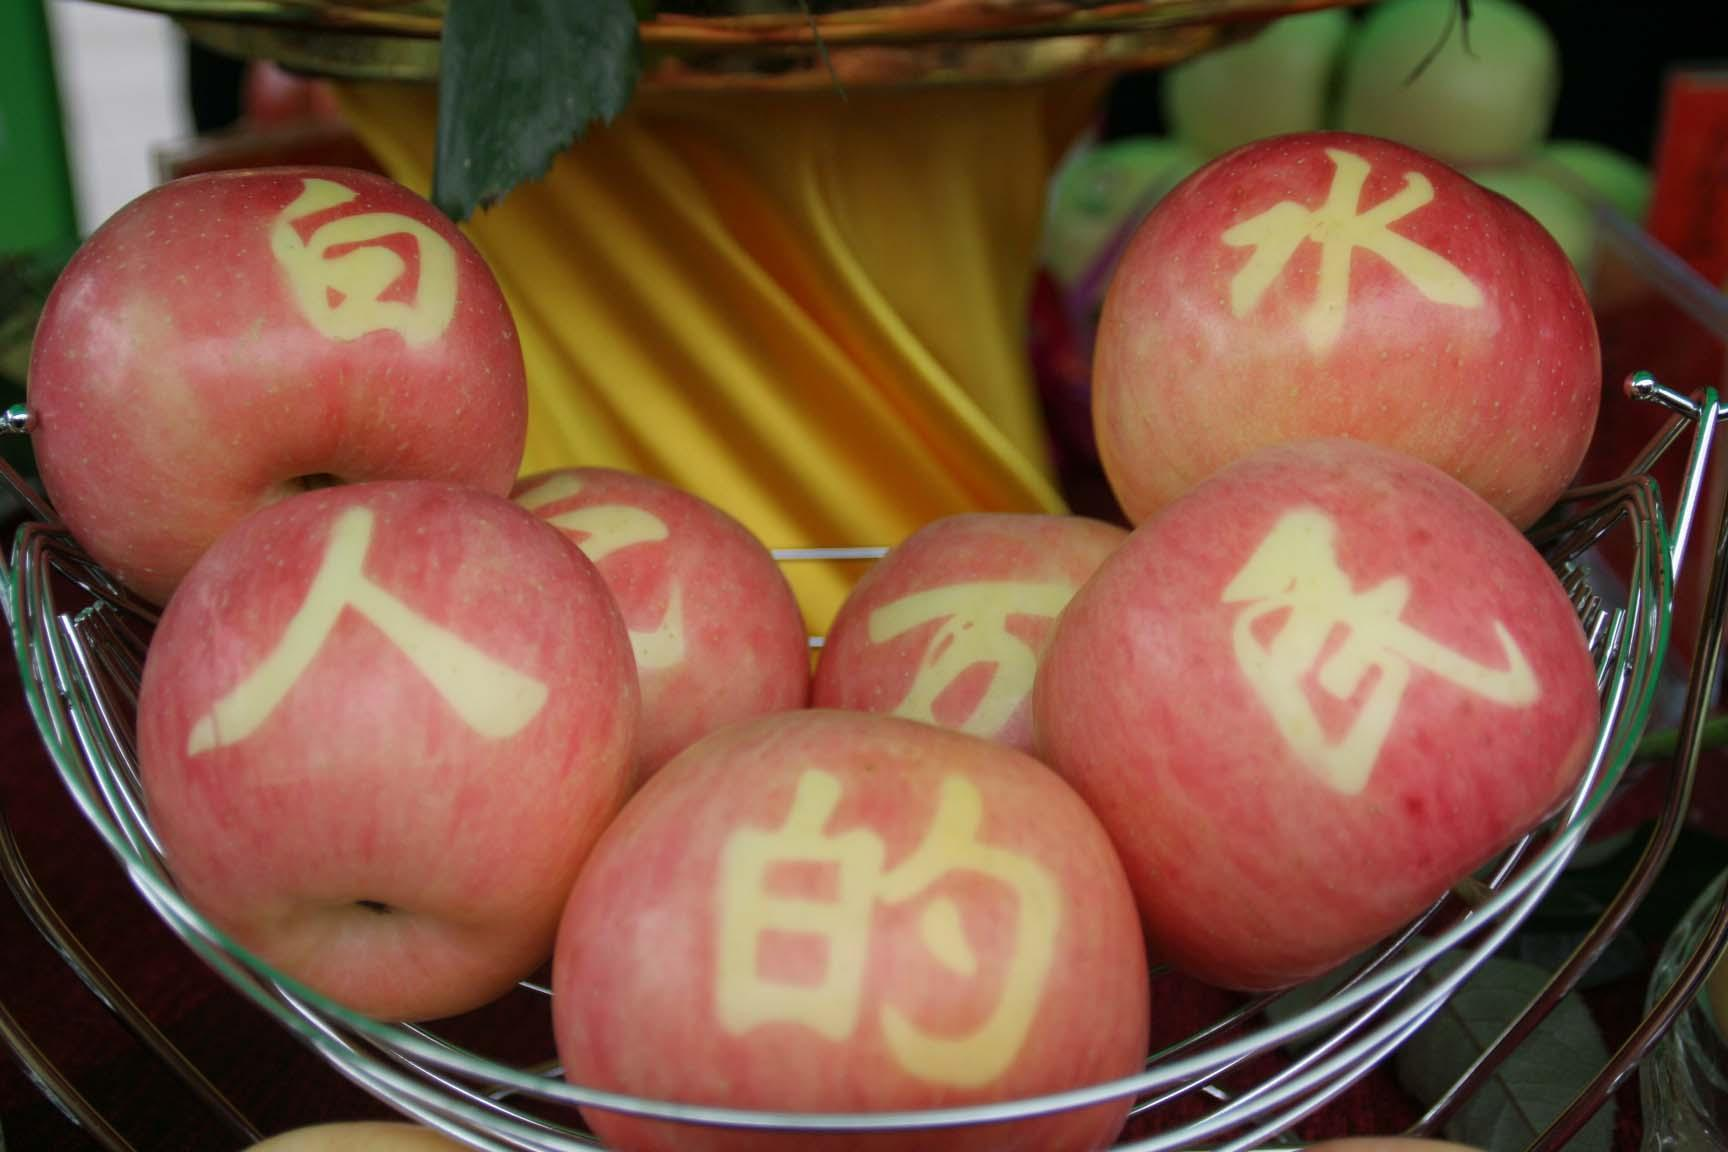apple: (1034, 438, 1602, 989), (130, 478, 643, 1032), (546, 711, 1149, 1152), (1085, 126, 1605, 543), (30, 168, 525, 604), (820, 509, 1122, 755)
